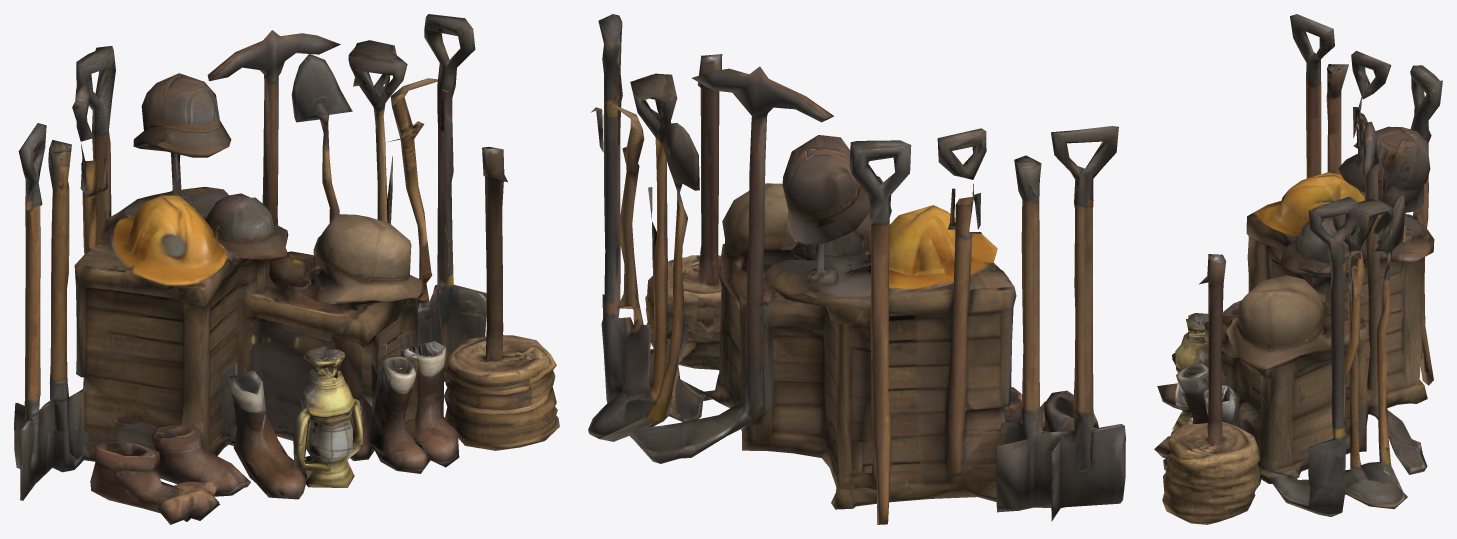
File: Objetos2.fbx
3 renders of one model, left to right at view 1: azimuth 30°, elevation 25°; view 2: azimuth 150°, elevation 25°; view 3: azimuth 270°, elevation 25°, orthographic. The views are drawn at different scales.
Parts seen in each view (by area): view 1: input; view 2: input; view 3: input.
Boxes of the visible parts, <box> form: input: <box>14,14,559,524</box>; input: <box>588,14,1125,524</box>; input: <box>1154,14,1442,524</box>.
Size of the model in its own units: 201 by 146 by 118.
1 material, 1 textured.
